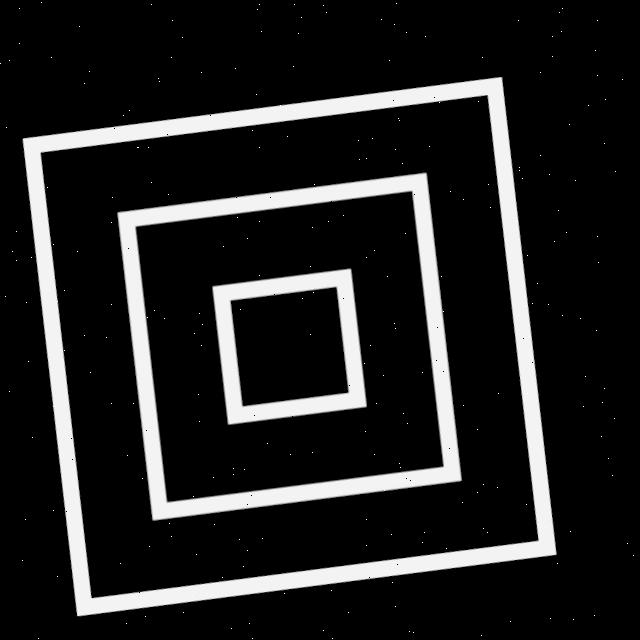BULLSEYE: (0, 18, 618, 640)
